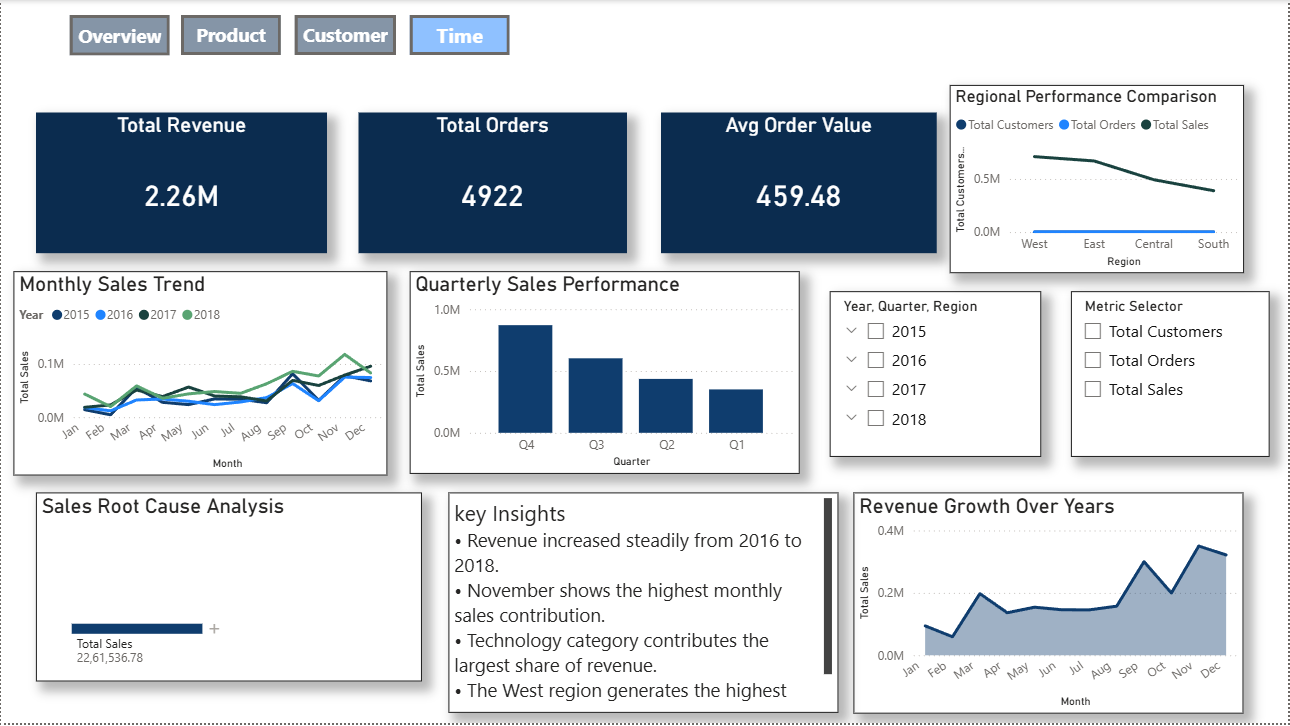

Layout of this report page (visuals, bound fields, positions):
{"tool":"powerbi","page":{"name":"Time Analysis","canvas":[1280,720],"ordinal":3},"visuals":[{"type":"card","title":"Total Revenue","fields":{"Values":["FactSales.Total Sales"]},"box":[34.6,112.5,290,139.9],"z":0},{"type":"card","title":"Total Orders","fields":{"Values":["FactSales.Total Orders"]},"box":[356.4,112.5,266.9,139.9],"z":1},{"type":"card","title":"Avg Order Value","fields":{"Values":["FactSales.Avg Order Value"]},"box":[656.5,112.5,274.1,139.9],"z":2},{"type":"lineChart","title":"Monthly Sales Trend","fields":{"Category":["Date Table.Month"],"Series":["Date Table.Year"],"Y":["FactSales.Total Sales"]},"box":[13,269.8,372.2,203.4],"z":3},{"type":"clusteredColumnChart","title":"Quarterly Sales Performance","fields":{"Category":["Date Table.Quarter"],"Y":["FactSales.Total Sales"]},"box":[406.9,269.8,388.1,202],"z":4},{"type":"areaChart","title":"Revenue Growth Over Years","fields":{"Category":["Date Table.Month"],"Y":["FactSales.Total Sales"]},"box":[848.4,490.1,388.1,220.2],"z":5},{"type":"decompositionTreeVisual","title":"Sales Root Cause Analysis","fields":{"Analyze":["FactSales.Total Sales"],"ExplainBy":["Date Table.Year","FactSales.Region","FactSales.Category"]},"box":[34.8,490.1,384.4,187.8],"z":6},{"type":"textbox","box":[445.3,490.1,388.1,218.9],"z":7},{"type":"slicer","fields":{"Values":["Date Table.Year","Date Table.Quarter","FactSales.Region"]},"box":[825.3,290,210.6,164.5],"z":8},{"type":"actionButton","box":[406.8,14.9,99.5,39.8],"z":9},{"type":"actionButton","title":"Product","box":[179.1,14.9,99.5,39.8],"z":10},{"type":"actionButton","box":[292.3,14.9,100.8,39.8],"z":11},{"type":"actionButton","box":[67.8,14.4,99.6,40.4],"z":12},{"type":"slicer","fields":{"Values":["Metric Selector.Metric Selector"]},"box":[1064.8,290,197.7,164.5],"z":13},{"type":"lineChart","title":"Regional Performance Comparison","fields":{"Category":["FactSales.Region"],"Y":["FactSales.Total Customers","FactSales.Total Orders","FactSales.Total Sales"]},"box":[943.6,85.1,292.9,187.6],"z":14}]}

Visuals, with their boxes in screenshot pixels (x1, y1, x2, y2), scaled from the page's 1280x720 canvas onto the 1290x726 screenshot:
"Total Revenue" card: [x1=35, y1=113, x2=327, y2=255]
"Total Orders" card: [x1=359, y1=113, x2=628, y2=255]
"Avg Order Value" card: [x1=662, y1=113, x2=938, y2=255]
"Monthly Sales Trend" lineChart: [x1=13, y1=272, x2=388, y2=477]
"Quarterly Sales Performance" clusteredColumnChart: [x1=410, y1=272, x2=801, y2=476]
"Revenue Growth Over Years" areaChart: [x1=855, y1=494, x2=1246, y2=716]
"Sales Root Cause Analysis" decompositionTreeVisual: [x1=35, y1=494, x2=422, y2=684]
textbox: [x1=449, y1=494, x2=840, y2=715]
slicer - Date Table.Year x Date Table.Quarter: [x1=832, y1=292, x2=1044, y2=458]
actionButton: [x1=410, y1=15, x2=510, y2=55]
"Product" actionButton: [x1=180, y1=15, x2=281, y2=55]
actionButton: [x1=295, y1=15, x2=396, y2=55]
actionButton: [x1=68, y1=15, x2=169, y2=55]
slicer - Metric Selector.Metric Selector: [x1=1073, y1=292, x2=1272, y2=458]
"Regional Performance Comparison" lineChart: [x1=951, y1=86, x2=1246, y2=275]
